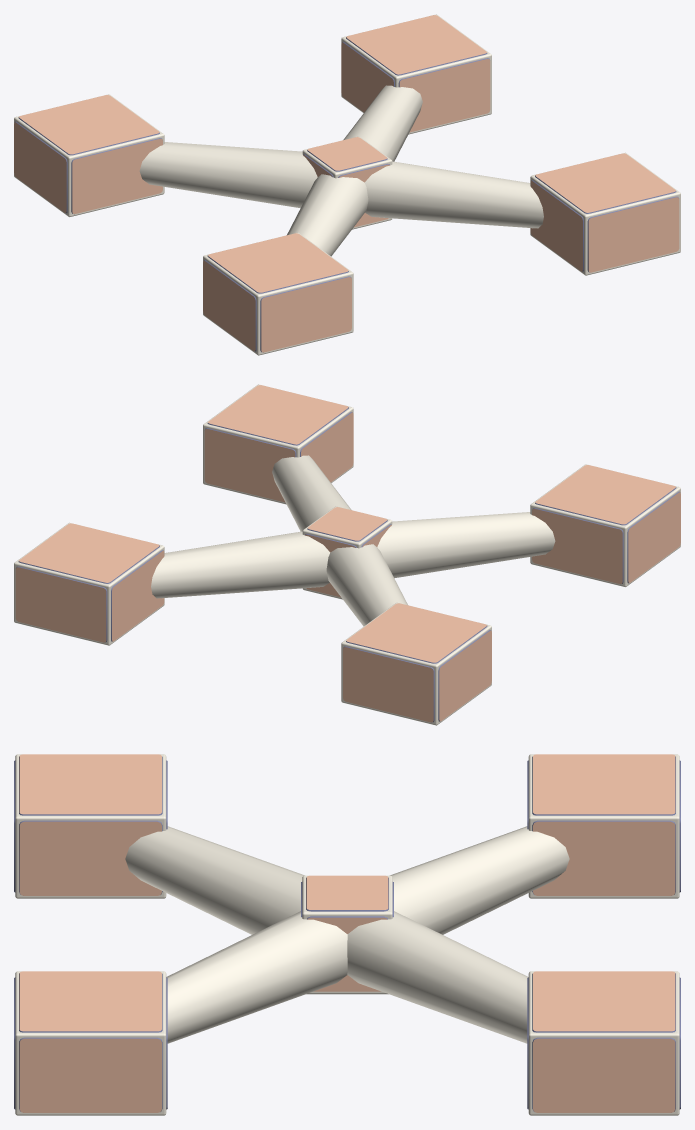
File: R4C_ROD_CROSS.fbx
3 renders of one model, top to bottom at view 1: azimuth 30°, elevation 25°; view 2: azimuth 150°, elevation 25°; view 3: azimuth 270°, elevation 25°, orthographic. The views are drawn at different scales.
Visible parts, largest first — view 1: R4C_ROD_CROSS; view 2: R4C_ROD_CROSS; view 3: R4C_ROD_CROSS.
Boxes of the visible parts, x1,y1,x2,y2 form: R4C_ROD_CROSS: [14, 14, 680, 355]; R4C_ROD_CROSS: [14, 384, 680, 725]; R4C_ROD_CROSS: [14, 754, 680, 1115].
Size of the model in its own units: 1.62 by 0.226 by 1.62.
